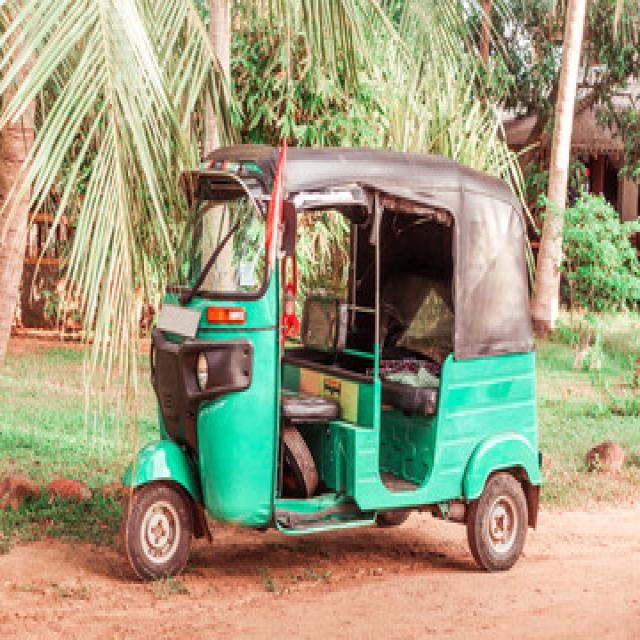three wheeler: (124, 144, 539, 579)
